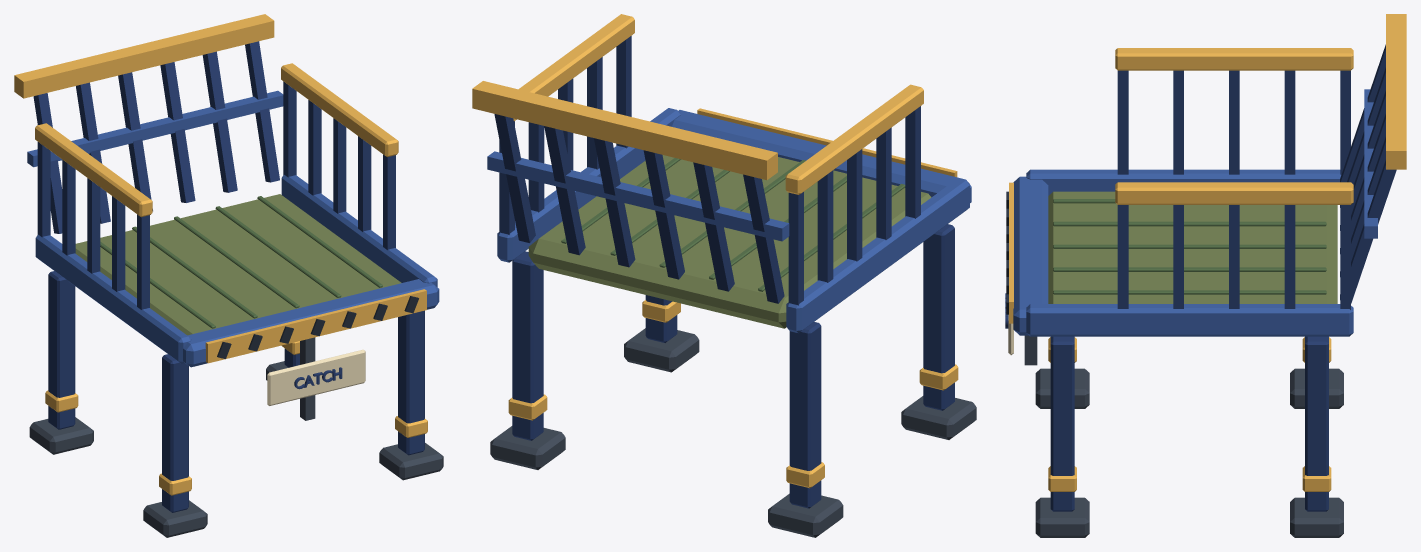
Rendered from mach_receiver_basket.glb.
The picture shows the model from 3 angles, left to right: view 1: azimuth 30°, elevation 25°; view 2: azimuth 150°, elevation 25°; view 3: azimuth 270°, elevation 25°; orthographic projection. The views are drawn at different scales.
Visible parts, largest first — view 1: mach_receiver_basket, mach_receiver_basket__basket_cushion, mach_receiver_basket__basket_back_top, mach_receiver_basket__basket_bottom_rail_-1, mach_receiver_basket__basket_warning_yellow, mach_receiver_basket__basket_support_-0.48_0.4_stem, mach_receiver_basket__basket_support_-0.48_-0.4_stem, mach_receiver_basket__basket_entry_roll, mach_receiver_basket__basket_back_mid, mach_receiver_basket__basket_support_0.48_-0.4_stem, mach_receiver_basket__basket_sign_back, mach_receiver_basket__basket_top_rail_-1 (+4 smaller); view 2: mach_receiver_basket, mach_receiver_basket__basket_cushion, mach_receiver_basket__basket_back_top, mach_receiver_basket__basket_bottom_rail_-1, mach_receiver_basket__basket_support_-0.48_0.4_stem, mach_receiver_basket__basket_support_0.48_0.4_stem, mach_receiver_basket__basket_support_-0.48_-0.4_stem, mach_receiver_basket__basket_back_mid, mach_receiver_basket__basket_entry_roll, mach_receiver_basket__basket_top_rail_-1, mach_receiver_basket__basket_support_0.48_0.4_pad, mach_receiver_basket__basket_support_-0.48_0.4_pad (+8 smaller); view 3: mach_receiver_basket, mach_receiver_basket__basket_cushion, mach_receiver_basket__basket_top_rail_-1, mach_receiver_basket__basket_entry_roll, mach_receiver_basket__basket_bottom_rail_-1, mach_receiver_basket__basket_support_0.48_-0.4_stem, mach_receiver_basket__basket_support_0.48_0.4_stem, mach_receiver_basket__basket_back_top, mach_receiver_basket__basket_support_0.48_-0.4_pad, mach_receiver_basket__basket_support_0.48_0.4_pad, mach_receiver_basket__basket_support_-0.48_-0.4_pad, mach_receiver_basket__basket_support_-0.48_0.4_pad (+4 smaller).
Boxes of the visible parts, x1,y1,x2,y2 form: mach_receiver_basket: [33, 41, 437, 358]; mach_receiver_basket__basket_cushion: [75, 194, 401, 335]; mach_receiver_basket__basket_back_top: [14, 14, 274, 98]; mach_receiver_basket__basket_bottom_rail_-1: [35, 234, 191, 363]; mach_receiver_basket__basket_warning_yellow: [205, 289, 426, 363]; mach_receiver_basket__basket_support_-0.48_0.4_stem: [48, 271, 75, 429]; mach_receiver_basket__basket_support_-0.48_-0.4_stem: [162, 354, 188, 512]; mach_receiver_basket__basket_entry_roll: [183, 279, 439, 367]; mach_receiver_basket__basket_back_mid: [27, 90, 283, 167]; mach_receiver_basket__basket_support_0.48_-0.4_stem: [398, 310, 424, 455]; mach_receiver_basket__basket_sign_back: [267, 349, 365, 405]; mach_receiver_basket__basket_top_rail_-1: [35, 123, 152, 217]; mach_receiver_basket: [494, 14, 920, 305]; mach_receiver_basket__basket_cushion: [528, 155, 931, 328]; mach_receiver_basket__basket_back_top: [472, 81, 777, 180]; mach_receiver_basket__basket_bottom_rail_-1: [786, 178, 969, 333]; mach_receiver_basket__basket_support_-0.48_0.4_stem: [789, 322, 821, 508]; mach_receiver_basket__basket_support_0.48_0.4_stem: [512, 251, 543, 440]; mach_receiver_basket__basket_support_-0.48_-0.4_stem: [923, 224, 954, 410]; mach_receiver_basket__basket_back_mid: [487, 151, 789, 241]; mach_receiver_basket__basket_entry_roll: [672, 110, 971, 202]; mach_receiver_basket__basket_top_rail_-1: [785, 84, 923, 194]; mach_receiver_basket__basket_support_0.48_0.4_pad: [490, 426, 565, 469]; mach_receiver_basket__basket_support_-0.48_0.4_pad: [768, 493, 843, 537]; mach_receiver_basket: [1006, 44, 1396, 336]; mach_receiver_basket__basket_cushion: [1048, 191, 1337, 303]; mach_receiver_basket__basket_top_rail_-1: [1115, 48, 1353, 70]; mach_receiver_basket__basket_entry_roll: [1013, 176, 1048, 335]; mach_receiver_basket__basket_bottom_rail_-1: [1026, 169, 1341, 195]; mach_receiver_basket__basket_support_0.48_-0.4_stem: [1050, 336, 1074, 511]; mach_receiver_basket__basket_support_0.48_0.4_stem: [1305, 336, 1328, 511]; mach_receiver_basket__basket_back_top: [1386, 14, 1406, 169]; mach_receiver_basket__basket_support_0.48_-0.4_pad: [1035, 497, 1089, 537]; mach_receiver_basket__basket_support_0.48_0.4_pad: [1290, 497, 1343, 537]; mach_receiver_basket__basket_support_-0.48_-0.4_pad: [1035, 368, 1089, 408]; mach_receiver_basket__basket_support_-0.48_0.4_pad: [1290, 368, 1343, 408].
Size of the model in its own units: 1.14 by 1.32 by 1.26.
